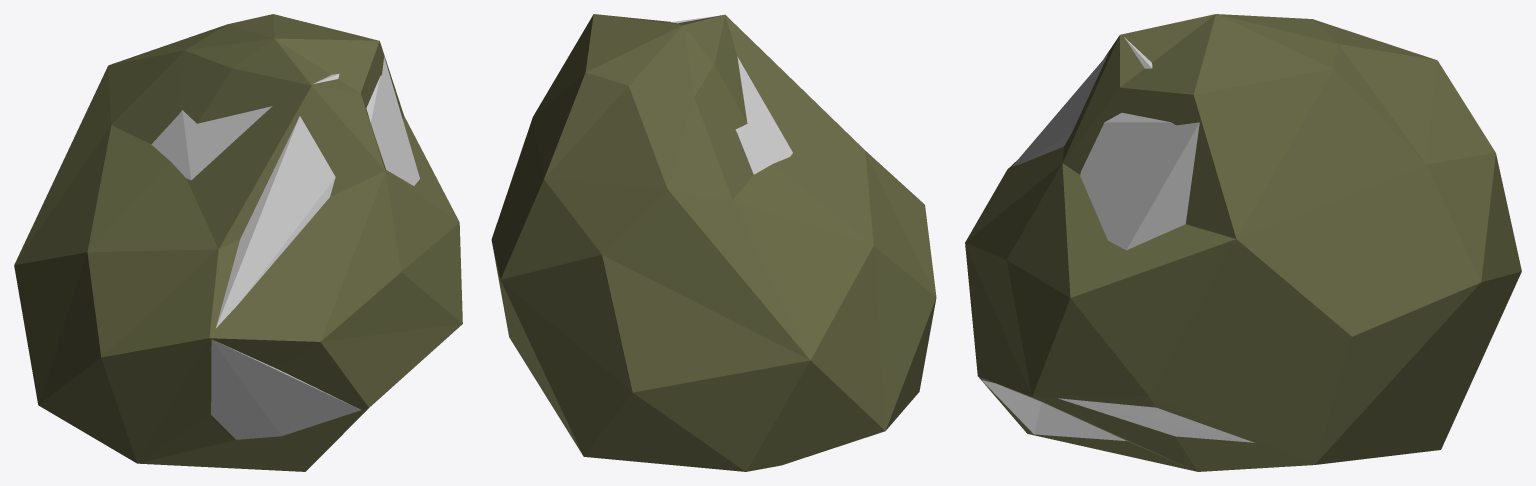
File: SM_Env_Bush_01.fbx
3 renders of one model, left to right at view 1: azimuth 30°, elevation 25°; view 2: azimuth 150°, elevation 25°; view 3: azimuth 270°, elevation 25°, orthographic. The views are drawn at different scales.
Visible parts, largest first — view 1: SM_Env_Bush_01, SM_Env_Bush_01_ConvexHulls; view 2: SM_Env_Bush_01, SM_Env_Bush_01_ConvexHulls; view 3: SM_Env_Bush_01, SM_Env_Bush_01_ConvexHulls.
Boxes of the visible parts, bbox=[...] form: SM_Env_Bush_01: bbox=[14, 14, 462, 471]; SM_Env_Bush_01_ConvexHulls: bbox=[151, 57, 419, 439]; SM_Env_Bush_01: bbox=[491, 14, 936, 471]; SM_Env_Bush_01_ConvexHulls: bbox=[671, 15, 792, 174]; SM_Env_Bush_01: bbox=[965, 14, 1521, 471]; SM_Env_Bush_01_ConvexHulls: bbox=[982, 37, 1254, 442].
Size of the model in its own units: 168 by 187 by 166.
2 materials, 1 textured.
